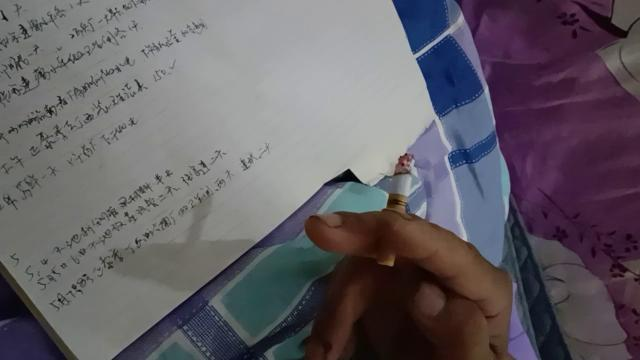Smoking: (376, 154, 416, 266)
